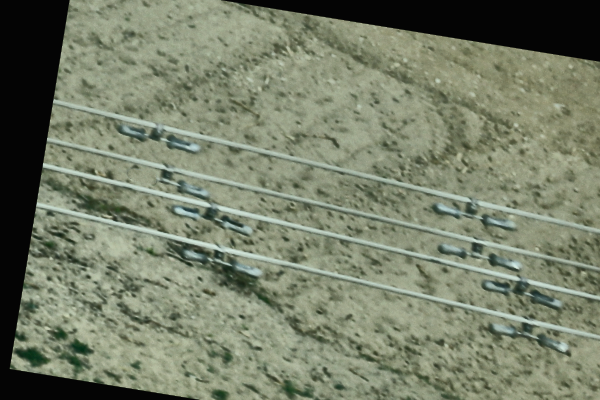damper: (428, 192, 519, 232), (177, 241, 266, 281), (486, 315, 570, 356), (435, 235, 524, 273), (168, 199, 254, 237), (116, 118, 203, 154), (480, 275, 566, 311)
damper_defect: (153, 157, 211, 199)
